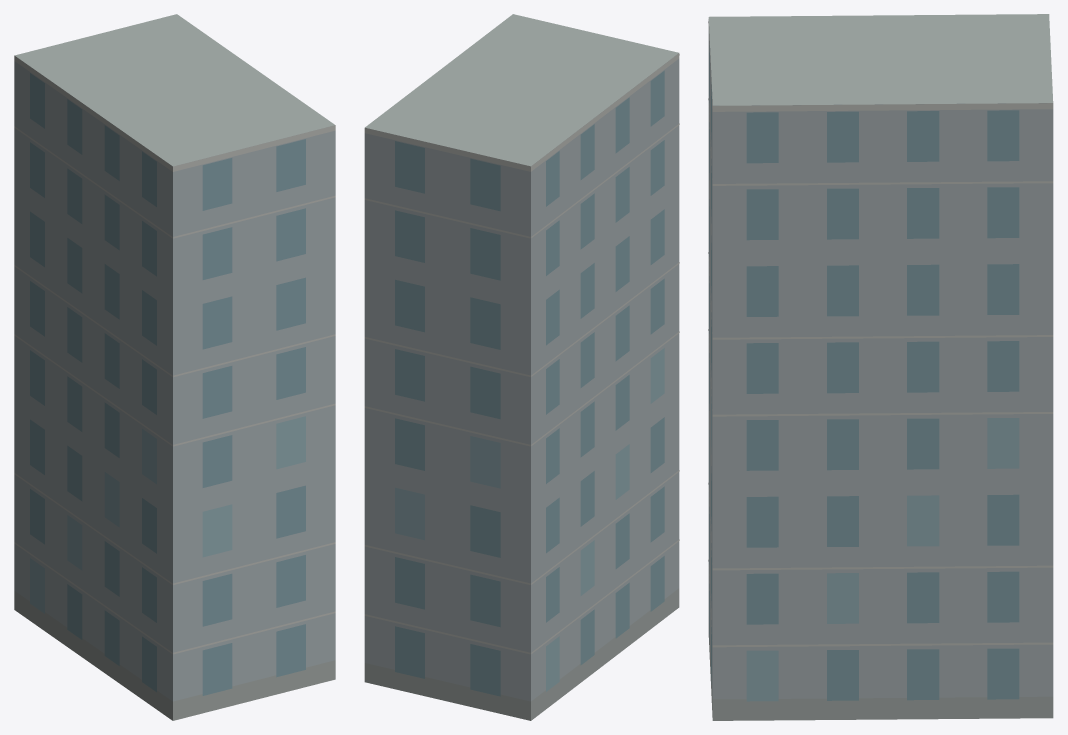
File: survey-upis-32717394.glb
3 renders of one model, left to right at view 1: azimuth 30°, elevation 25°; view 2: azimuth 150°, elevation 25°; view 3: azimuth 270°, elevation 25°, orthographic. The views are drawn at different scales.
Visible parts, largest first — view 1: survey-upis-32717394.tmp; view 2: survey-upis-32717394.tmp; view 3: survey-upis-32717394.tmp.
Boxes of the visible parts, x1,y1,x2,y2 form: survey-upis-32717394.tmp: [14, 14, 335, 720]; survey-upis-32717394.tmp: [364, 14, 679, 720]; survey-upis-32717394.tmp: [708, 14, 1053, 720].
Size of the model in its own units: 7.83 by 24.4 by 12.41.
